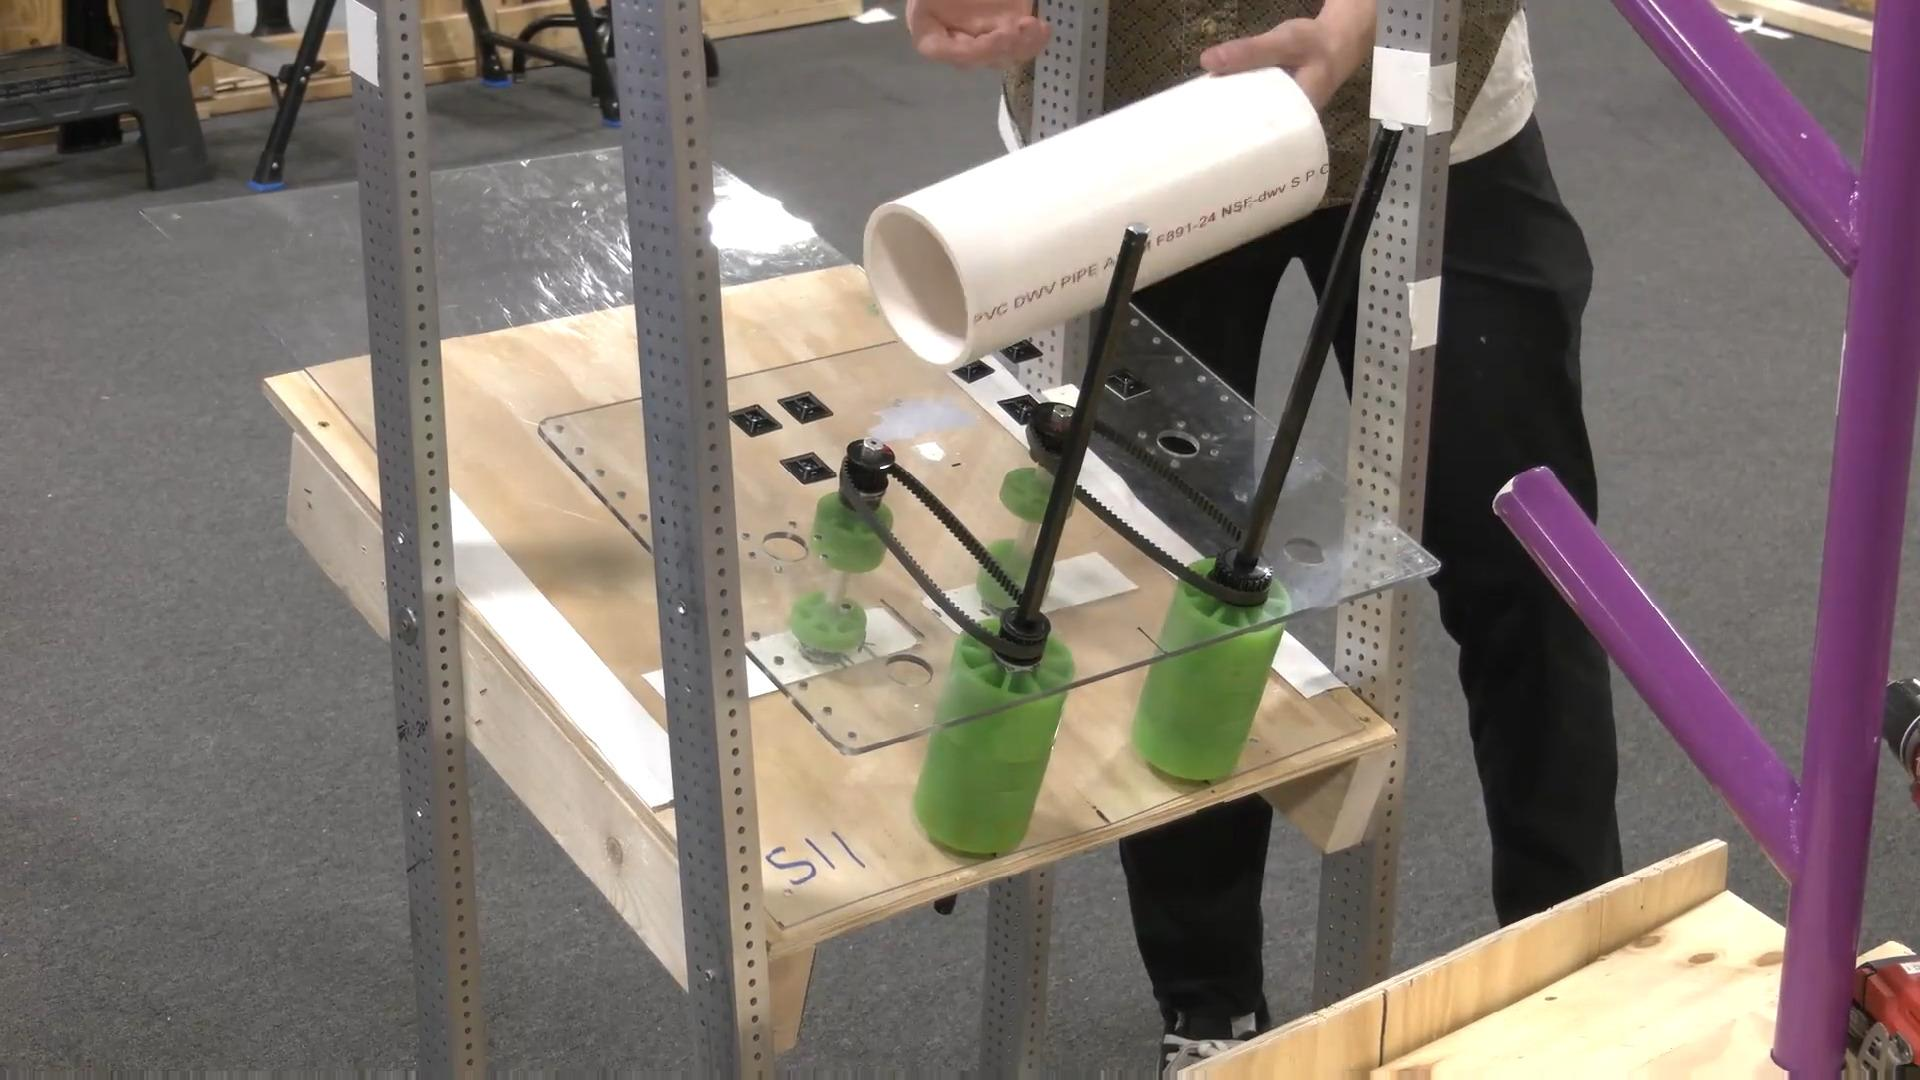coral: (862, 57, 1332, 375)
